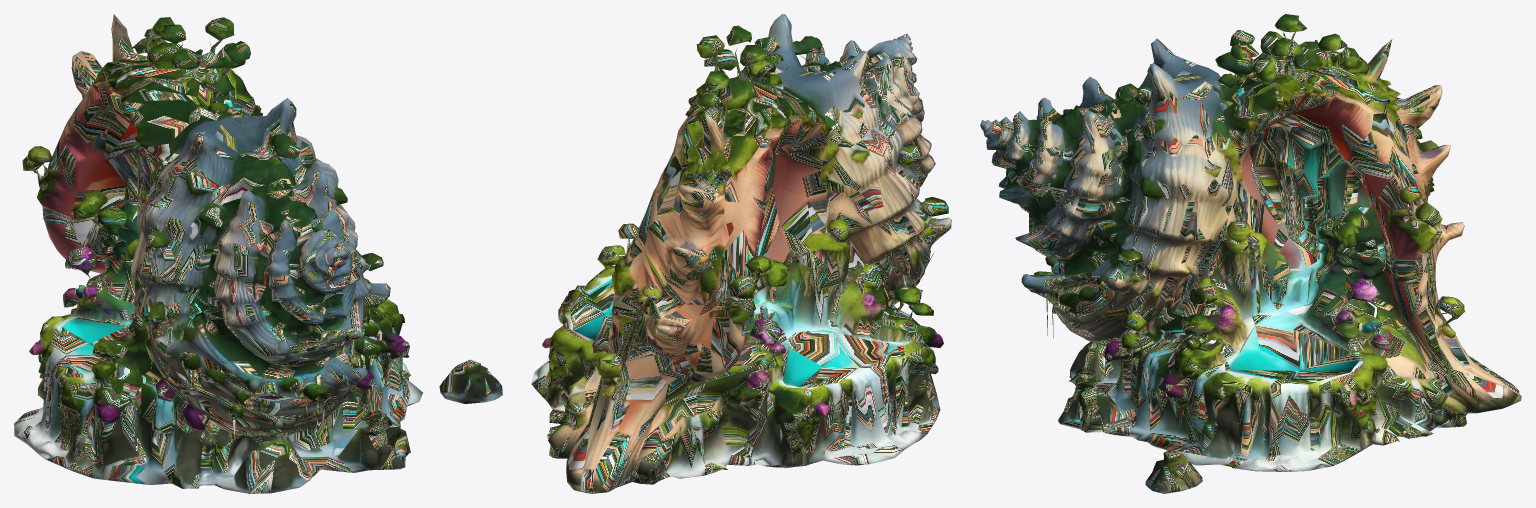
The picture shows the model from 3 angles, left to right: view 1: azimuth 30°, elevation 25°; view 2: azimuth 150°, elevation 25°; view 3: azimuth 270°, elevation 25°; orthographic projection. The views are drawn at different scales.
Parts seen in each view (by area): view 1: Untitled_3; view 2: Untitled_3; view 3: Untitled_3.
Part boxes in pixels (x1=…): Untitled_3: x1=14, y1=14, x2=502, y2=493; Untitled_3: x1=531, y1=14, x2=951, y2=493; Untitled_3: x1=980, y1=14, x2=1521, y2=493.
Bounding box in the file's own units: 1.67 × 1.46 × 2.
1 material, 1 textured.
